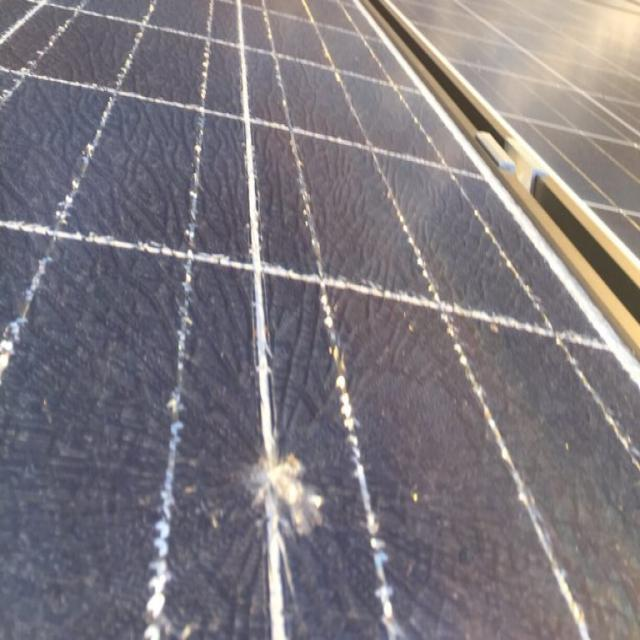Physical-damage: (119, 263, 474, 585), (48, 79, 186, 194), (323, 135, 447, 253)
